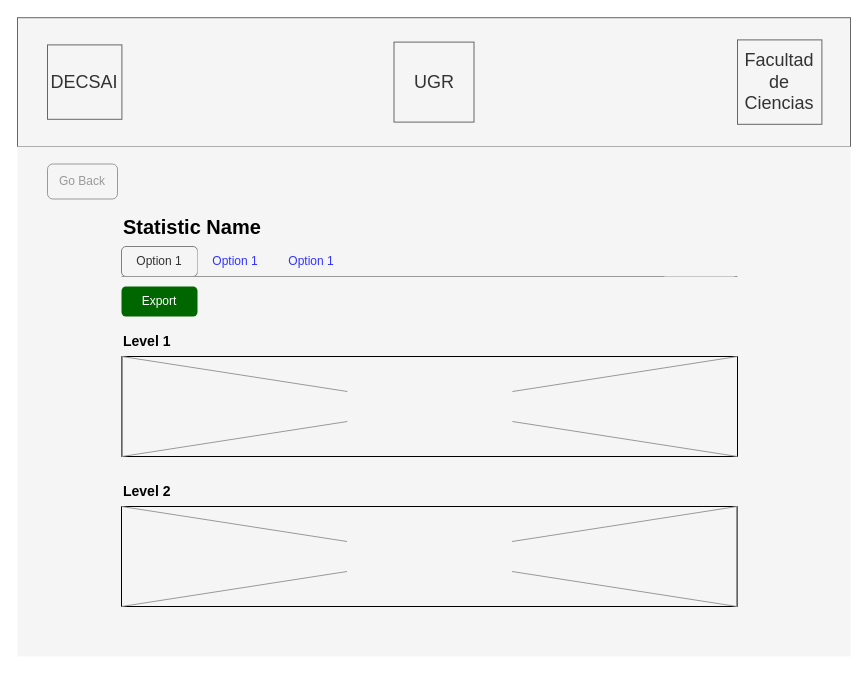
This 868x674 diagram has some shape labels left out. Each missing label, with the centre of its shape:
"Option 1 Level 1 Graphic" belongs at (429,406).
"Option 1 Level 2 Graphic" belongs at (428,556).
